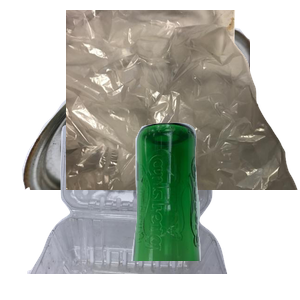glass: (129, 120, 300, 300)
metal: (19, 22, 259, 202)
plastic: (25, 120, 245, 300)
trash: (66, 10, 300, 190)
